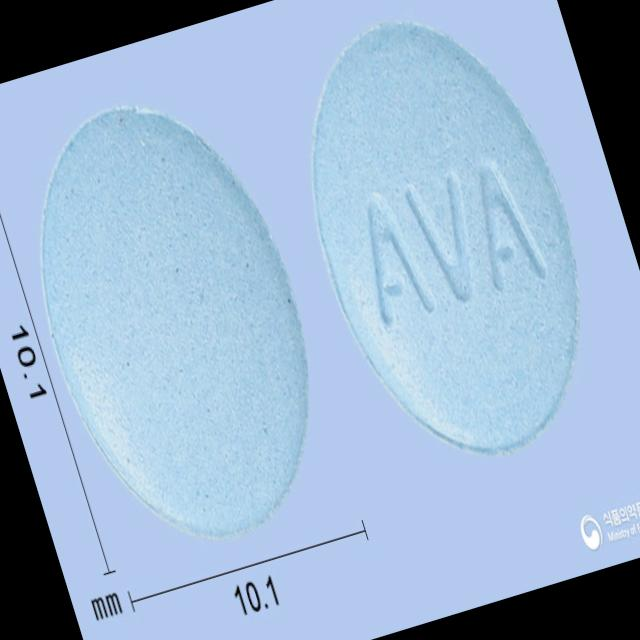Aclova 400mg: (263, 0, 629, 486)
